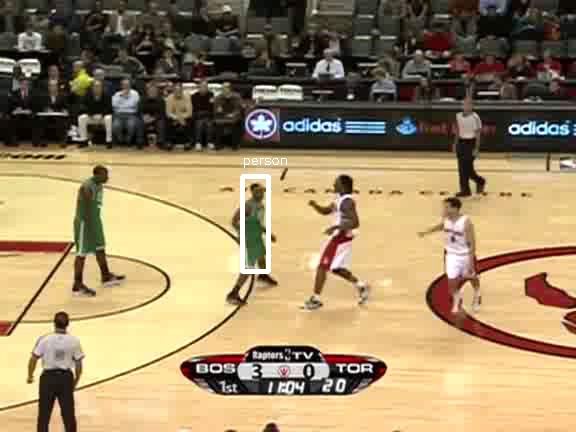person: (237, 193, 271, 274), (236, 193, 270, 274), (238, 193, 272, 274), (237, 192, 271, 273), (237, 194, 271, 275)
target_negative: (35, 140, 524, 177), (399, 56, 575, 116), (51, 142, 398, 161), (220, 242, 299, 314), (248, 326, 262, 380), (194, 223, 202, 290)
